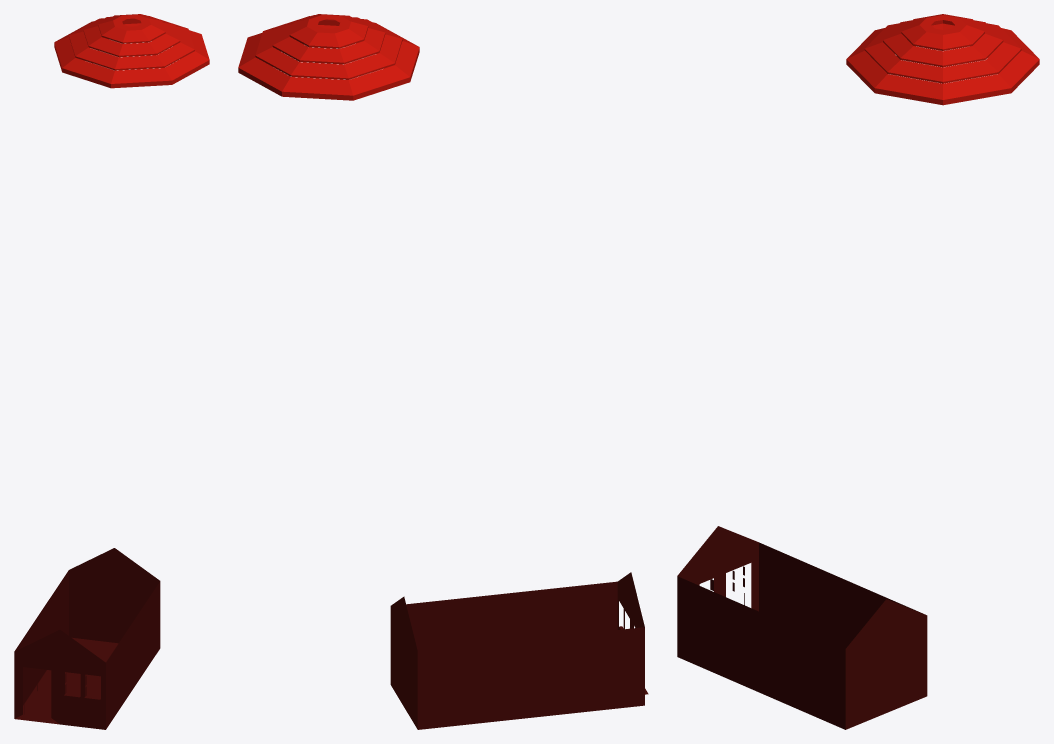
The model's file is LightHouseRed.obj.
3 renders of one model, left to right at view 1: azimuth 30°, elevation 25°; view 2: azimuth 150°, elevation 25°; view 3: azimuth 270°, elevation 25°, orthographic. The views are drawn at different scales.
Visible parts, largest first — view 1: Cube.014_Cube.015, Cylinder.001; view 2: Cube.014_Cube.015, Cylinder.001; view 3: Cube.014_Cube.015, Cylinder.001.
Part boxes in pixels (x1=…): Cube.014_Cube.015: x1=14, y1=548, x2=160, y2=729; Cylinder.001: x1=54, y1=14, x2=209, y2=88; Cube.014_Cube.015: x1=390, y1=572, x2=648, y2=729; Cylinder.001: x1=238, y1=14, x2=419, y2=100; Cube.014_Cube.015: x1=677, y1=526, x2=927, y2=729; Cylinder.001: x1=846, y1=14, x2=1039, y2=105.
Size of the model in its own units: 0.0505 by 0.1083 by 0.05.
